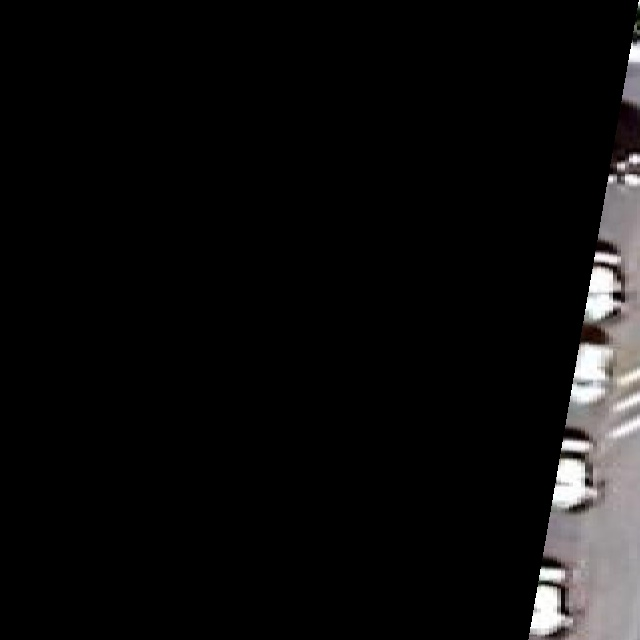car: (551, 427, 603, 511), (570, 324, 613, 405), (530, 558, 574, 637), (585, 240, 624, 322)
